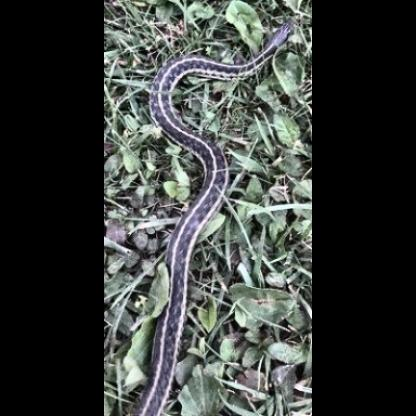Snake: (146, 19, 294, 237), (133, 242, 199, 416)
